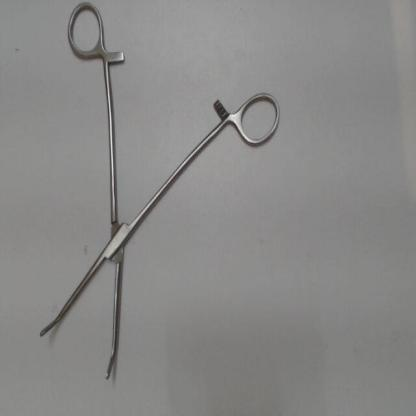Lahey Forceps: (31, 0, 296, 392)
